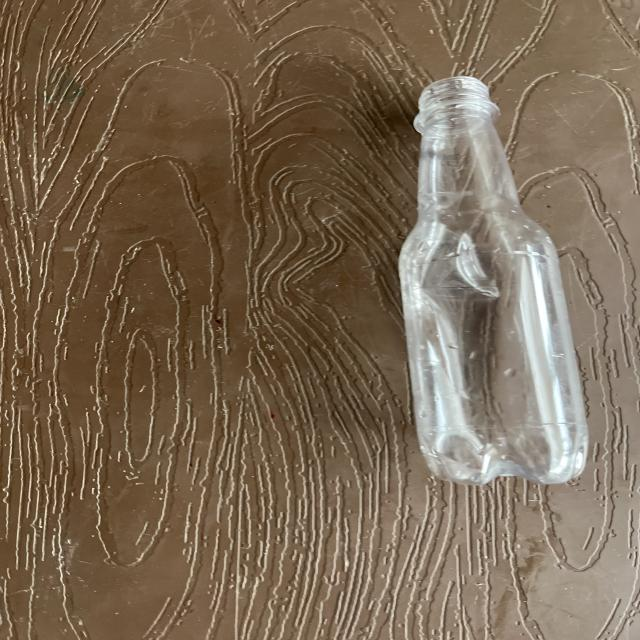PET_With_Liquid: (400, 78, 587, 483)
